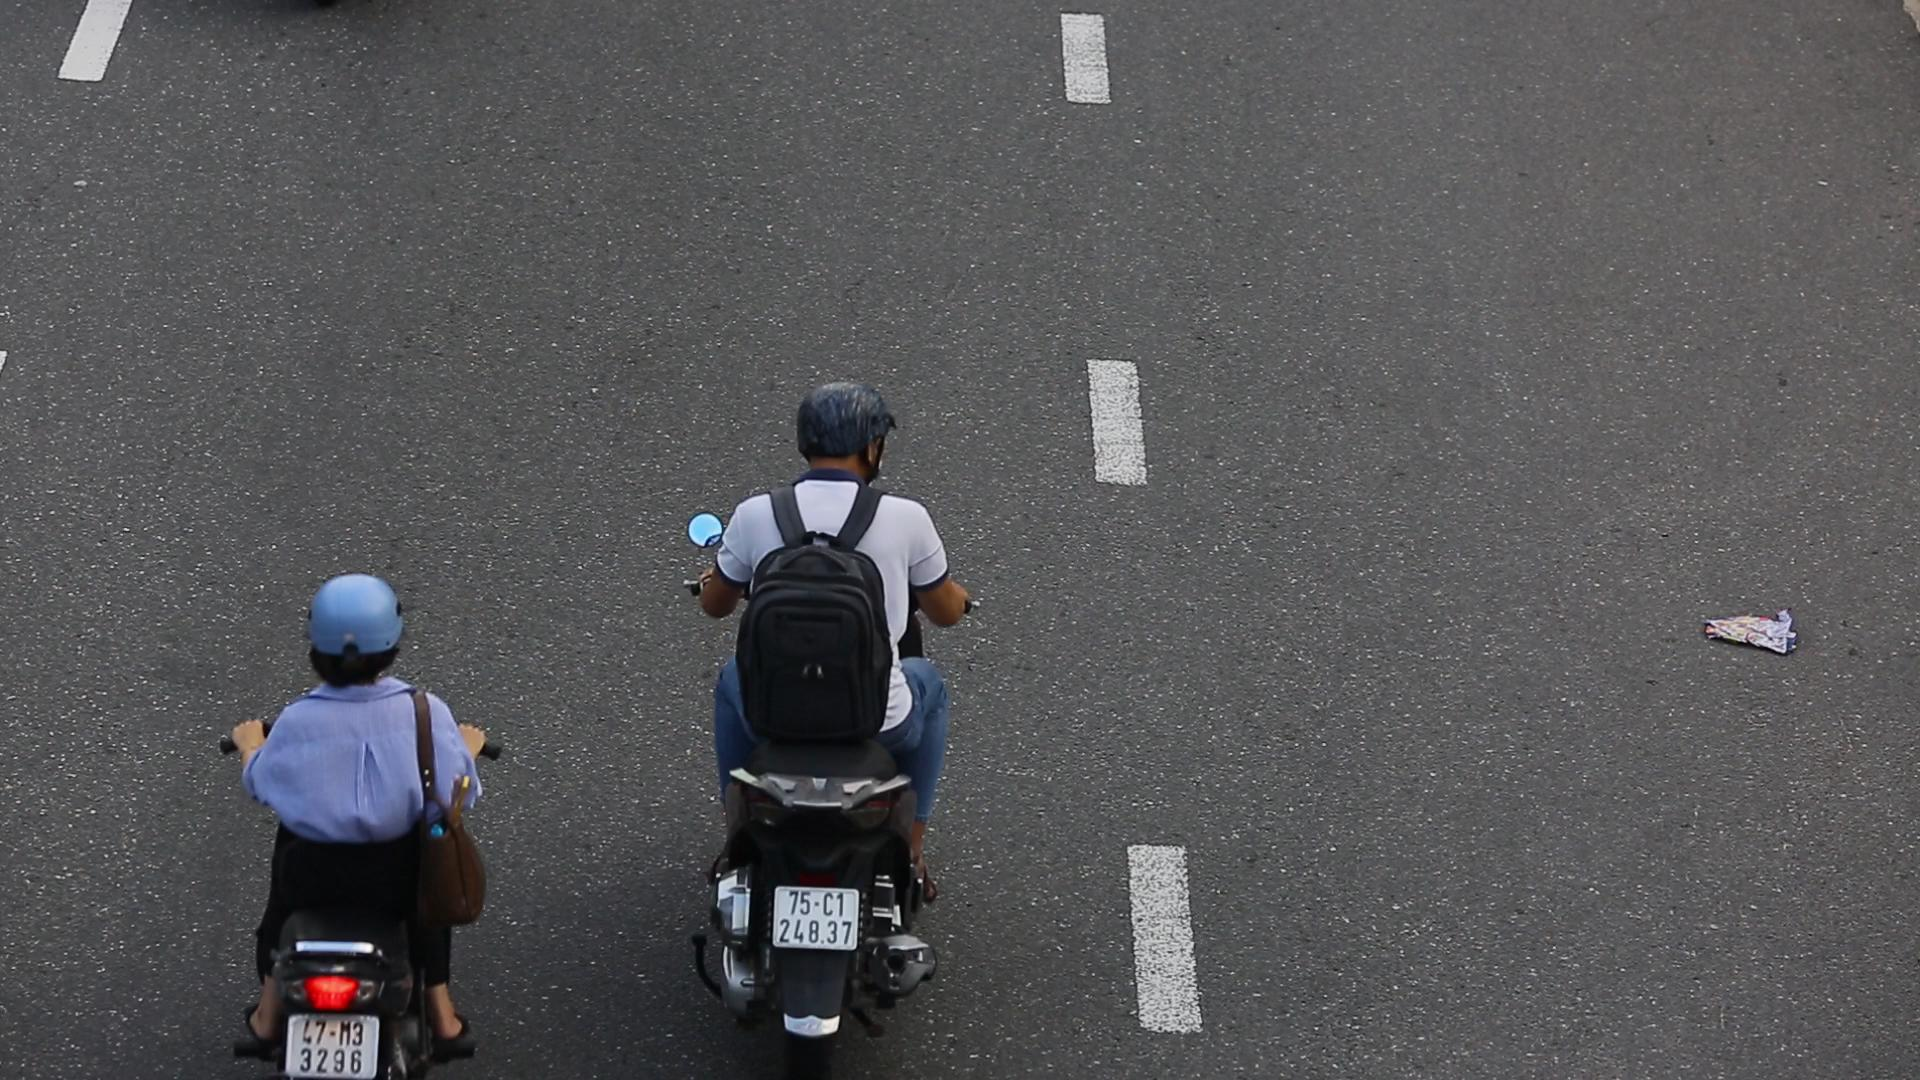motobike: (667, 380, 977, 1075), (202, 566, 531, 1080)
